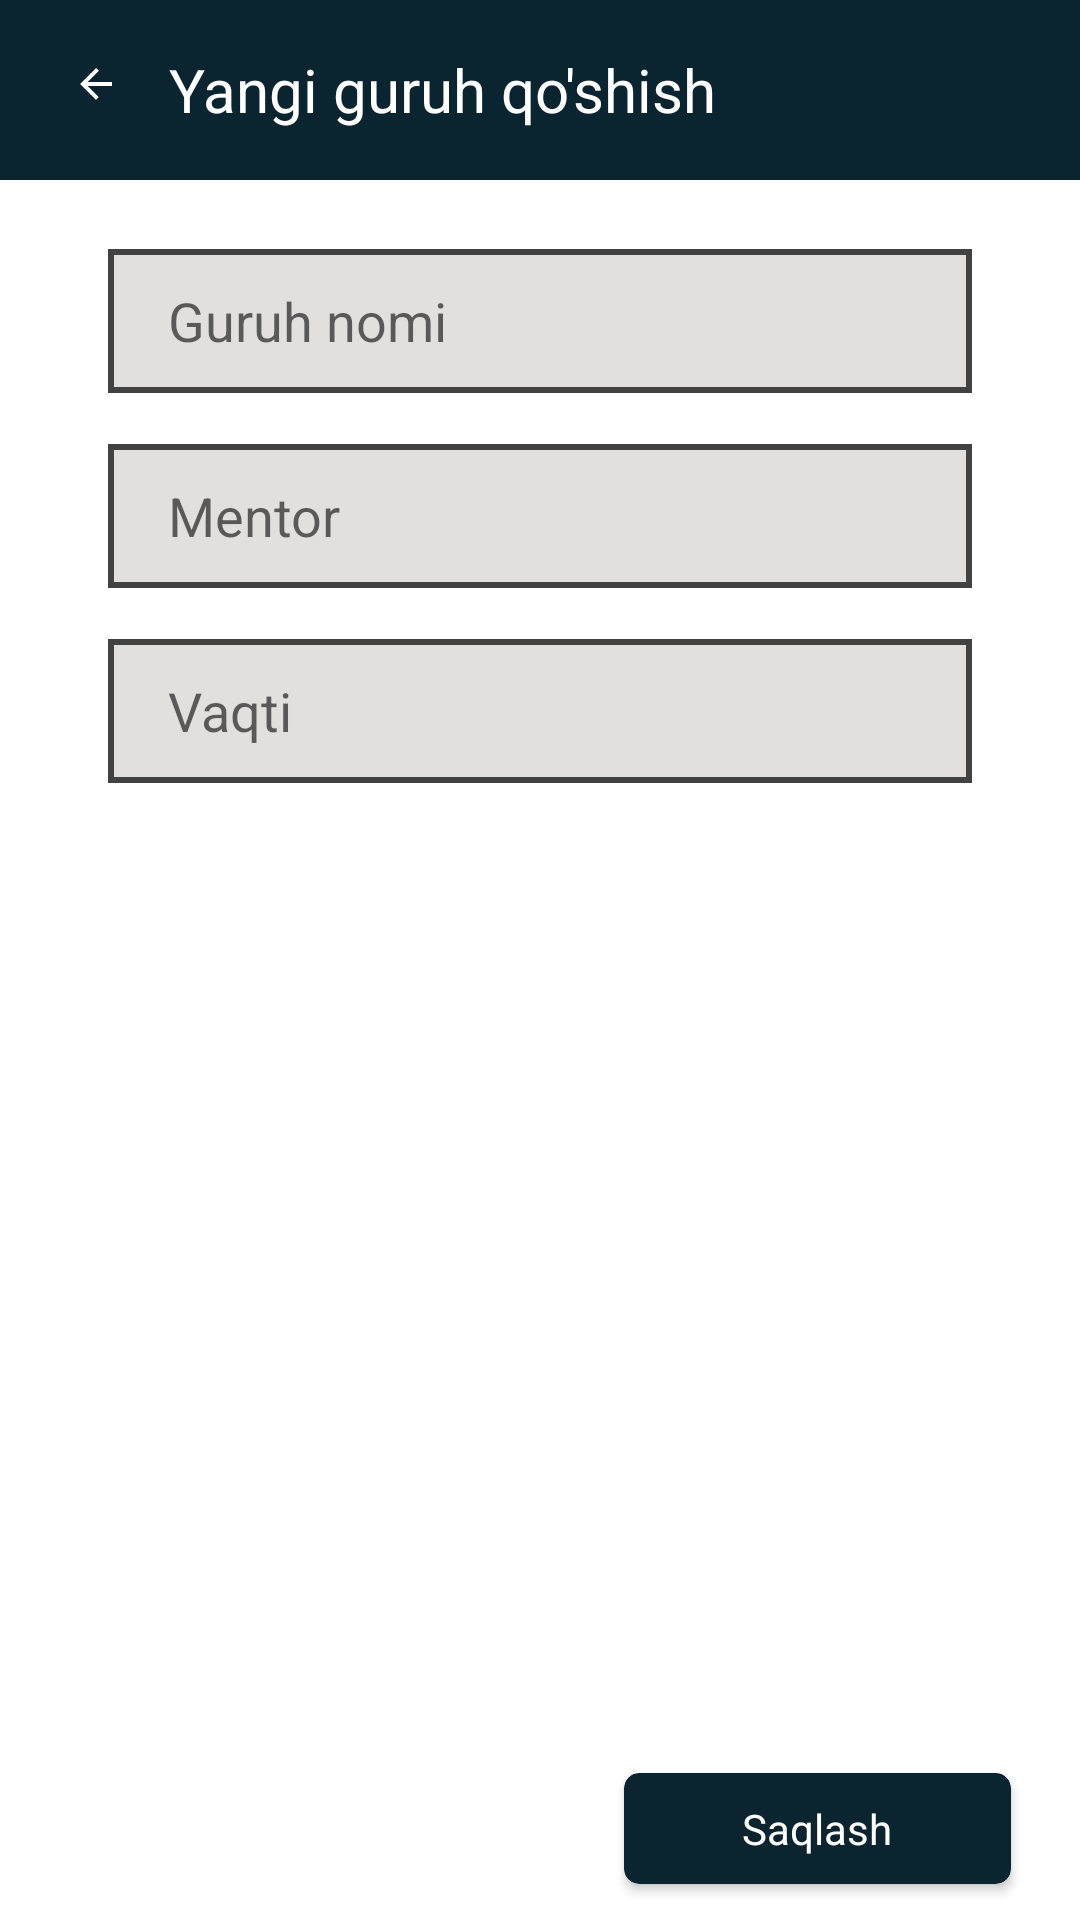

Icon click points for this 1080*1920 phone screenshot, format [x,y]:
arrow back: [96,84]
